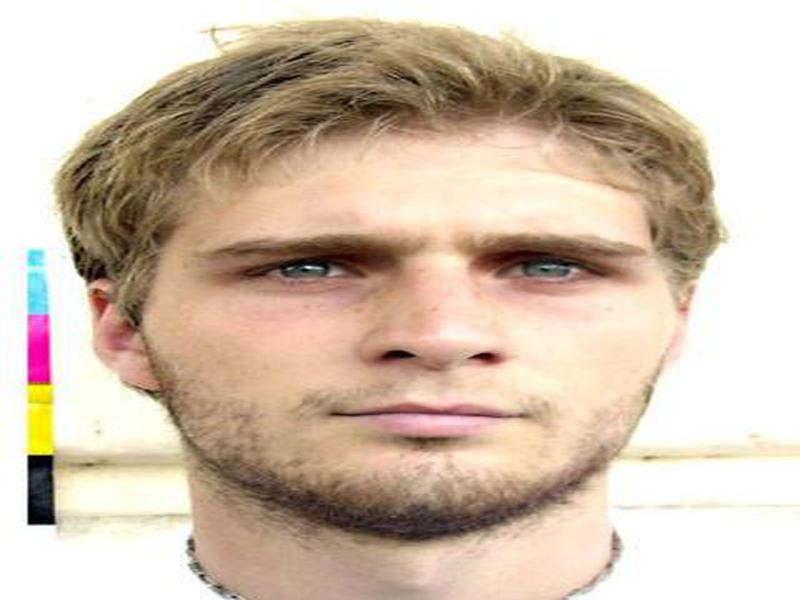without_mask: (153, 140, 668, 536)
